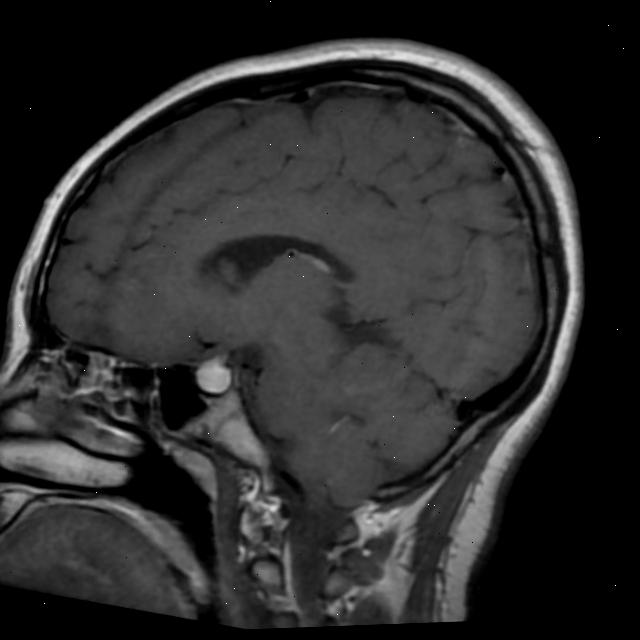Pituitary: (190, 348, 238, 398)
